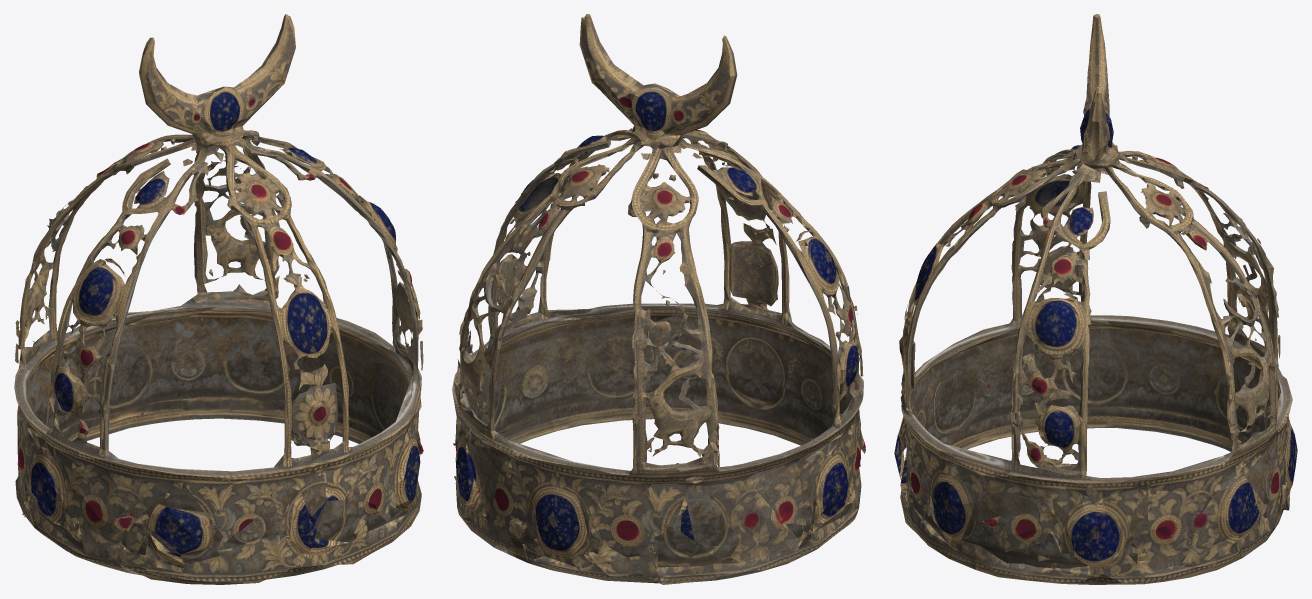
Rendered from toj.glb.
3 renders of one model, left to right at view 1: azimuth 30°, elevation 25°; view 2: azimuth 150°, elevation 25°; view 3: azimuth 270°, elevation 25°, orthographic. The views are drawn at different scales.
Parts seen in each view (by area): view 1: Mesh0; view 2: Mesh0; view 3: Mesh0.
Part boxes in pixels (box(x1,y1,x2,y2)): Mesh0: box(14, 14, 423, 584); Mesh0: box(452, 14, 865, 584); Mesh0: box(894, 14, 1297, 584).
Bounding box in the file's own units: 1.5 × 1.9 × 1.5.
Materials: 1 (1 with a texture image).
